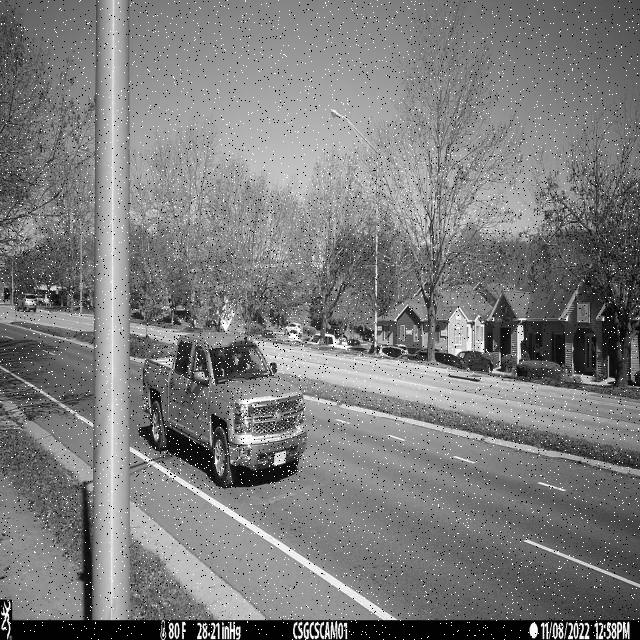Pickup: (143, 333, 307, 489)
